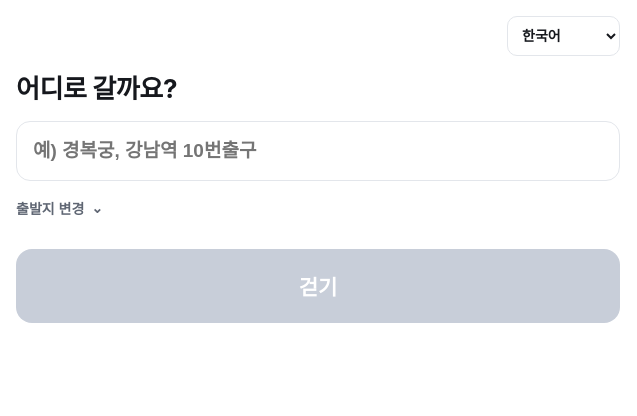
Test: 진도식당 동명 장소 검색 표시 › 주소가 없는 후보를 확인 가능하도록 주소 미제공으로 표시한다
Type "진도식당" into the search field named "목적지". click: (318, 151)
box: left=16, top=121, right=620, bottom=181
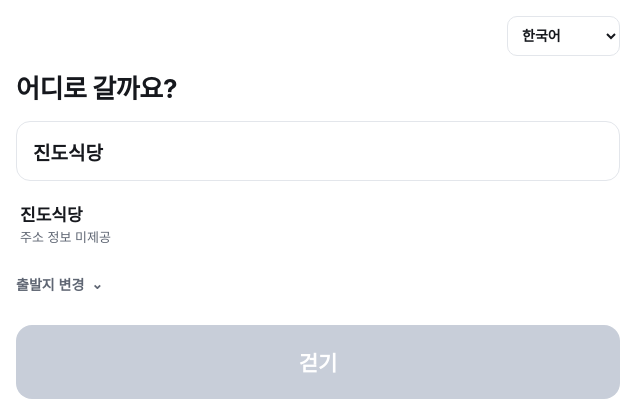
Check: the text "주소 정보 미제공" is shown, box left=20, top=230, right=111, bottom=245
